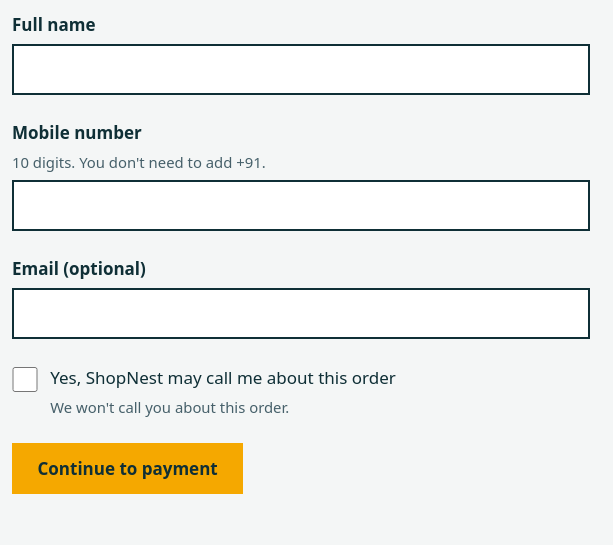
Test: CheckoutForm › includes a valid email and flags a bad one
The image size is (613, 545).
Later steps or results of the test are not shown.
Type "Rohan" into the field labelled "Full name" at [301, 69], box 12,44 -> 590,95
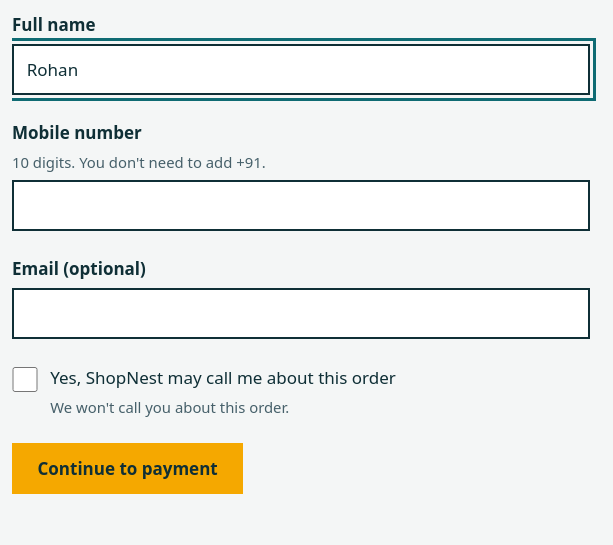
Type "9876543210" into the field labelled "Mobile number" at [301, 205], box 12,180 -> 590,231
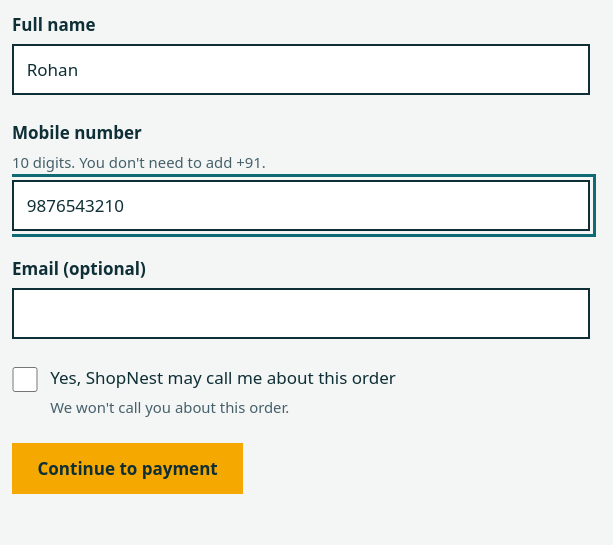
Type "not-an-email" into the field labelled "Email (optional)" at [301, 314], box 12,288 -> 590,339
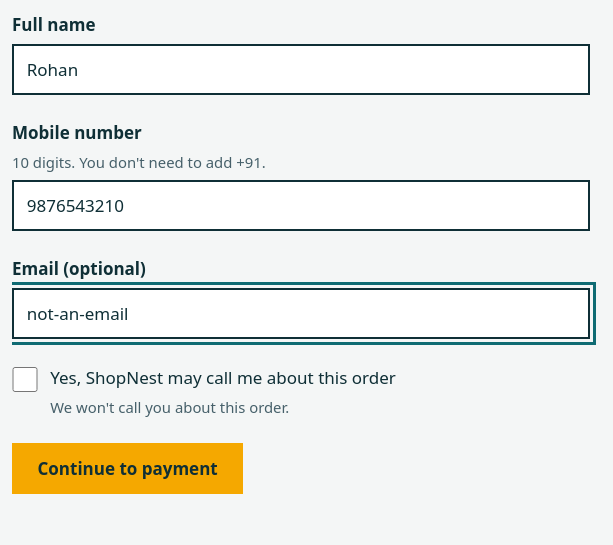
Click the button "Continue to payment" at [128, 469], box 12,443 -> 243,494
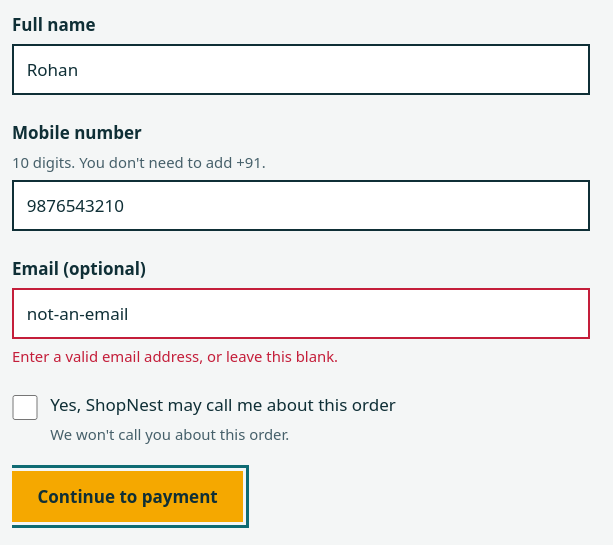
Expected: the text "Enter a valid email address, or leave this blank." is shown, 12,346 -> 338,366
